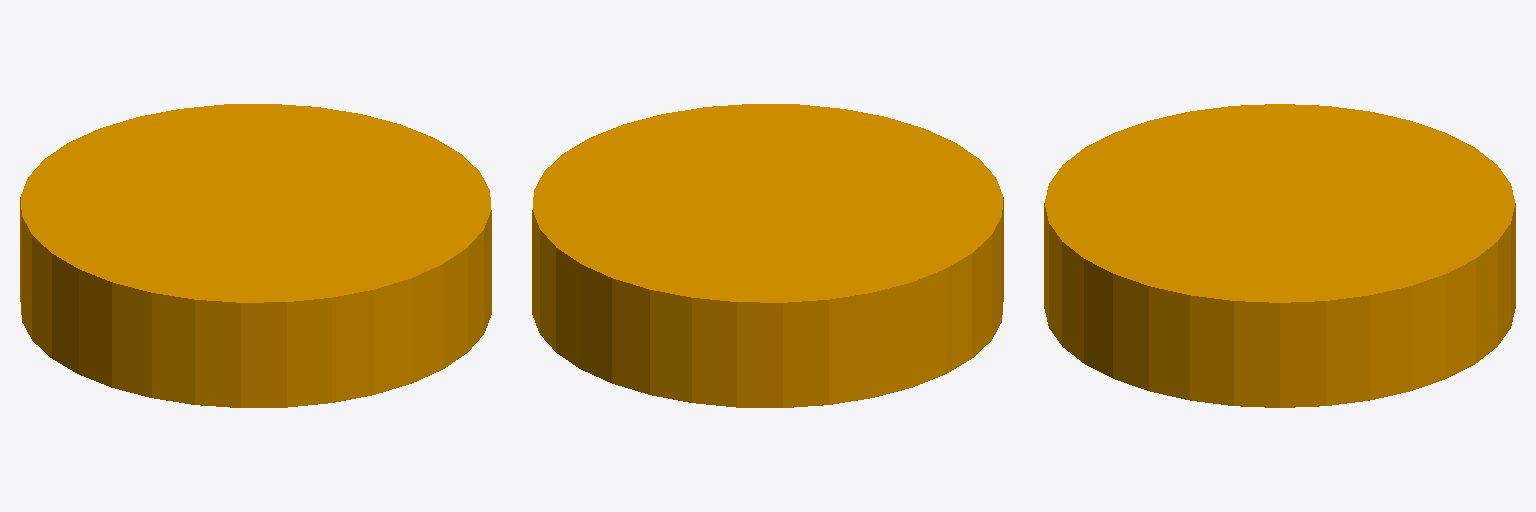
The robot description file, URDF, robot "2v2_test_hand_cylinder_medium":
<?xml version="1.0" ?>
<robot name="2v2_test_hand_cylinder_medium">

    <link name="2v2_test_hand_cylinder_medium">
        <visual>
            <origin rpy="1.5707963267948966 0 0" xyz="0 0 0"/>
            <geometry>
                <mesh filename="obj_files/2v2_test_hand_cylinder_medium.obj" scale="1 1 1"/>
            </geometry>
        </visual>
        <collision>
            <geometry>
                <mesh filename="obj_files/2v2_test_hand_cylinder_medium_collision.obj" scale="1 1 1"/>
            </geometry>
        </collision>
    </link>

</robot>

--- Facts derived from the render (not from the file) ---
The picture shows the robot from 3 angles, left to right: view 1: azimuth 30°, elevation 25°; view 2: azimuth 150°, elevation 25°; view 3: azimuth 270°, elevation 25°; orthographic projection.
Model 2v2_test_hand_cylinder_medium with 1 links and 0 joints (none), rooted at 2v2_test_hand_cylinder_medium, posed all joints at 0.
Visible links, largest first — view 1: 2v2_test_hand_cylinder_medium; view 2: 2v2_test_hand_cylinder_medium; view 3: 2v2_test_hand_cylinder_medium.
Link boxes in pixels (x1,y1,x2,y2): 2v2_test_hand_cylinder_medium: [20, 104, 491, 407]; 2v2_test_hand_cylinder_medium: [532, 104, 1003, 407]; 2v2_test_hand_cylinder_medium: [1044, 104, 1515, 407].
Size in the robot's own frame: 0.2435 by 0.2435 by 0.06 metres.
Meshes: 1 distinct files referenced, 1 mesh visuals loaded (1 OBJ).